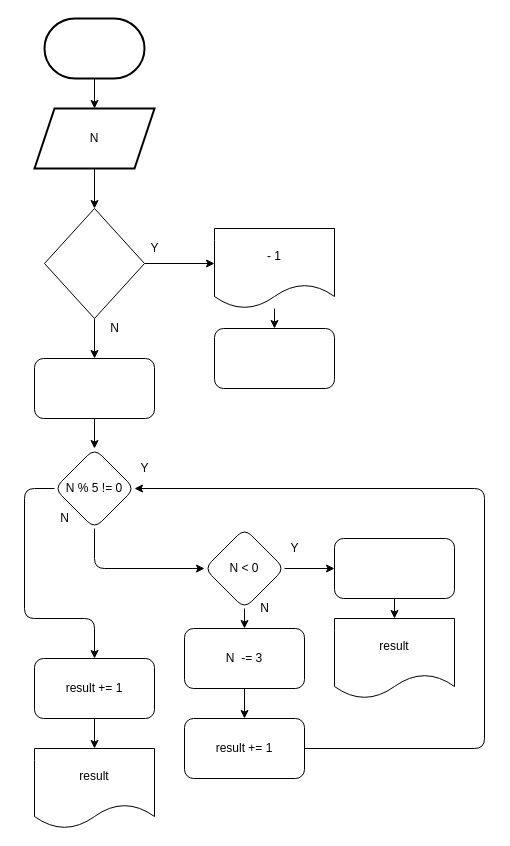
Some shapes in this 510 by 846 pixel diagram are drawn without their labels. The centre of each missing label's shape, as x and y in pixels:
"exit" goes at (274,358).
"N < 5 and N != 3" goes at (94,263).
"result += - 1" goes at (394,568).
"result = 0" goes at (94,388).
"start" goes at (94,48).
